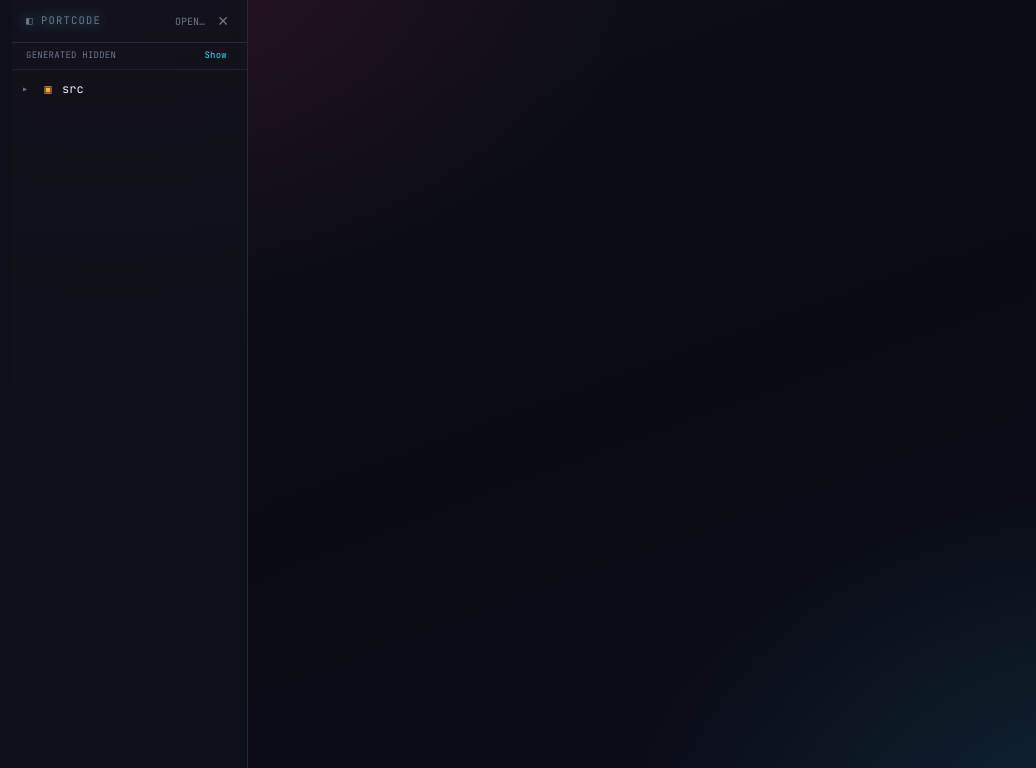
Test: FileExplorer accessibility › reflects directory open/closed state via aria-expanded
The image size is (1036, 768).
Click the list item with aria-label "src folder" at (130, 88), box [12, 76, 247, 102]
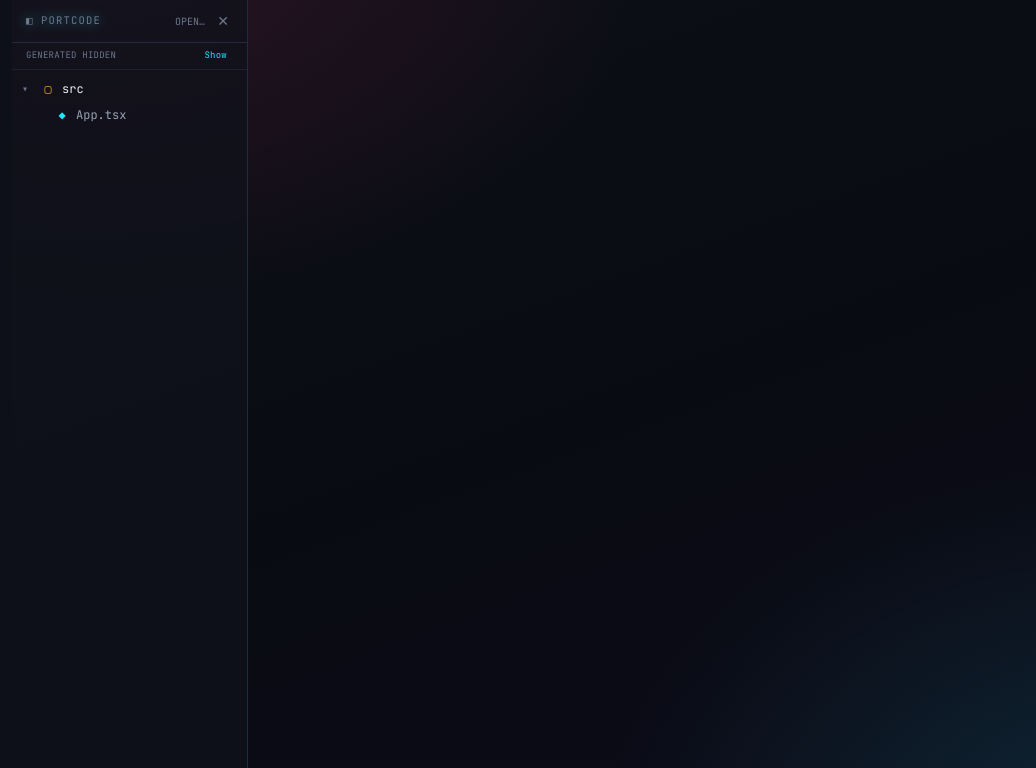
Now the list item with aria-label "src folder" is expanded, box [12, 76, 247, 102]
